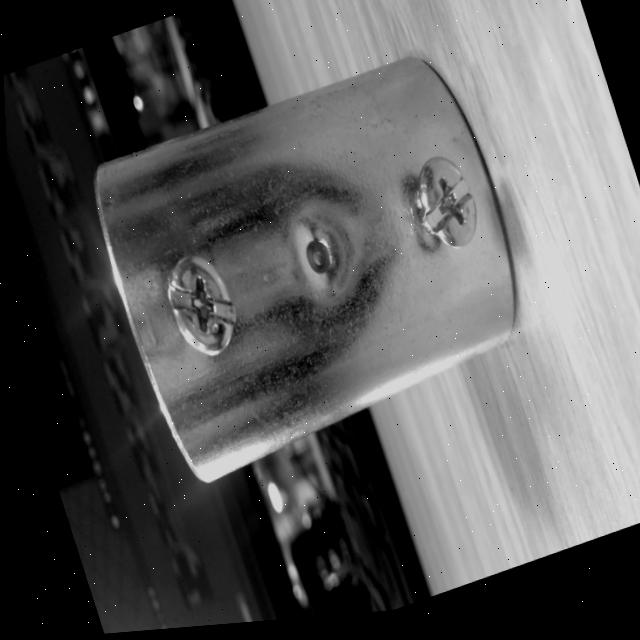Co_Nho: (75, 44, 553, 489)
